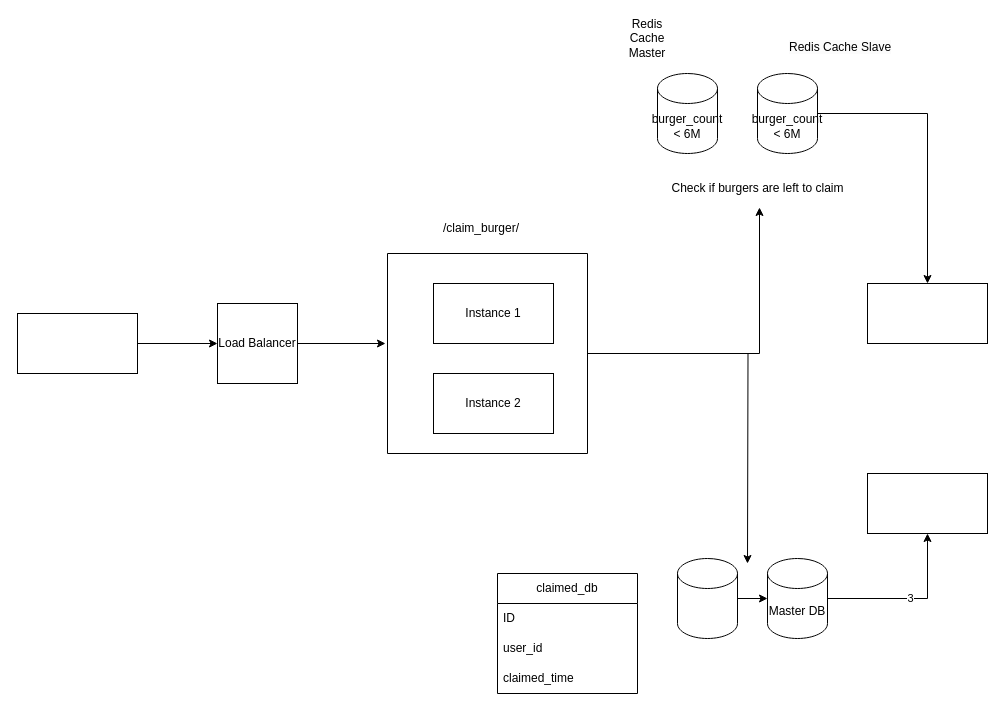
The diagram is 1005 pixels wide and 711 high, and some of its shapes have lost their labels. Each missing label, with the centre of its shape:
"All Burgers claimed" goes at (927,313).
"Client" goes at (77,343).
"Slave DB" goes at (707,598).
"You get a free burger" goes at (927,503).
